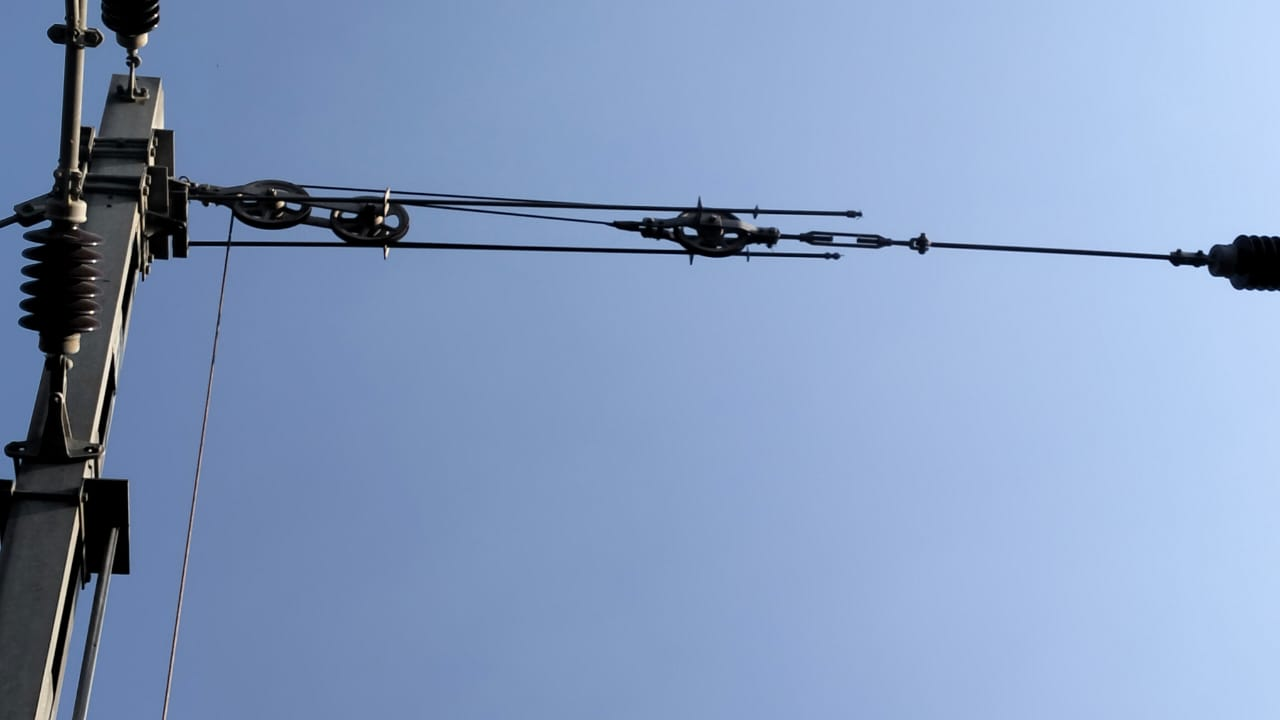Pulley: (334, 182, 419, 259), (672, 196, 764, 266), (237, 168, 312, 233)
objectA: (21, 212, 99, 354), (1179, 218, 1280, 297), (89, 0, 157, 54)
